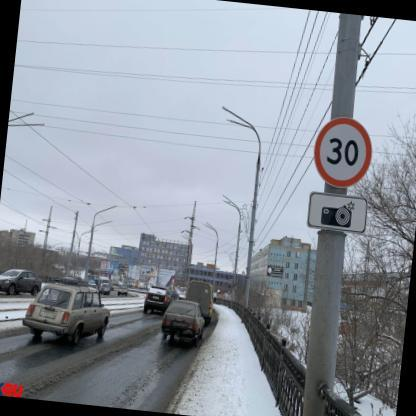road_sign: (314, 118, 371, 187), (307, 192, 367, 233)
